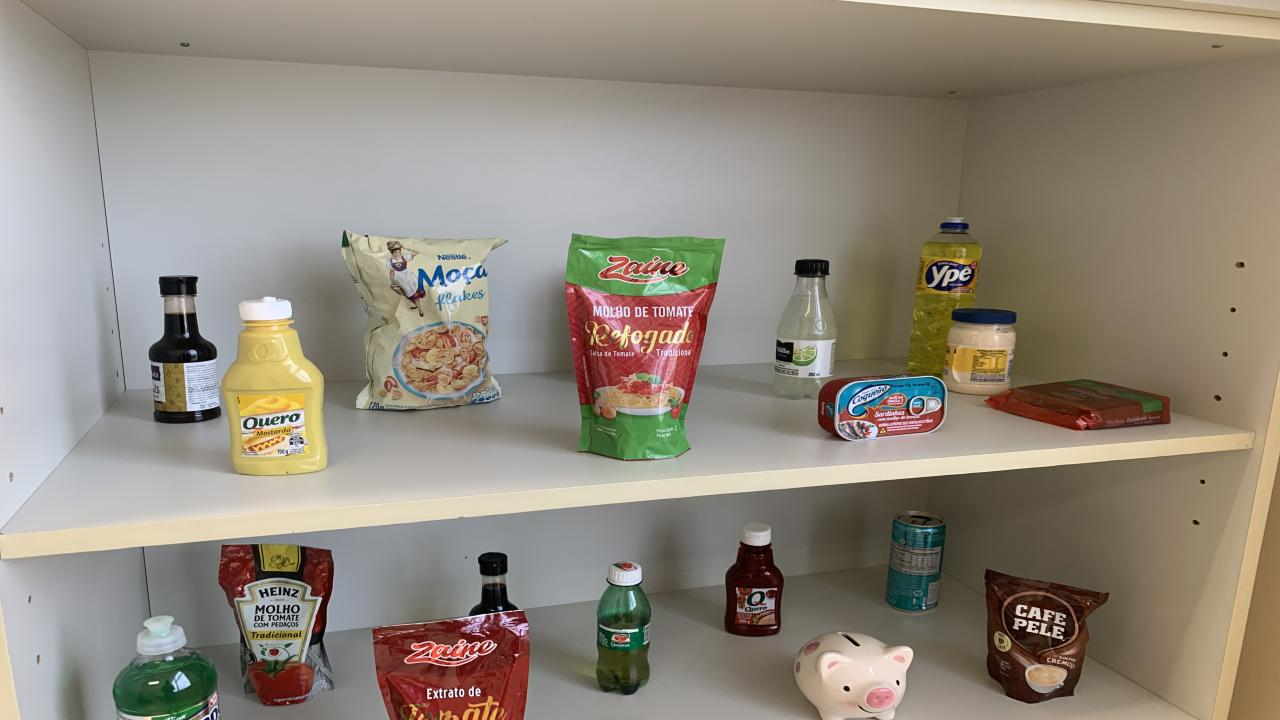Coffee-Pantry_Items: (985, 570, 1108, 703)
Detergent-Cleanup_Items: (908, 218, 982, 377), (112, 617, 220, 720)
English_Sauce-Pantry_Items: (150, 276, 220, 424), (470, 551, 518, 615)
Flakes-Snacks: (342, 232, 505, 409)
Guarana-Drinks: (595, 562, 650, 694)
Guava-Snacks: (988, 379, 1170, 429)
Ketchup-Pantry_Items: (725, 523, 782, 636)
Mayonnaise-Pantry_Items: (942, 308, 1015, 394)
Mustard-Pantry_Items: (222, 296, 328, 476)
Pig_Safe-Miscellaneous: (795, 632, 912, 720)
Soda-Drinks: (772, 259, 838, 399)
Tea-Drinks: (885, 512, 945, 611)
Tomato_Sauce-Pantry_Items: (565, 234, 725, 459), (220, 544, 332, 705), (372, 611, 530, 720)
Tuna_Can-Pantry_Items: (818, 375, 948, 441)
